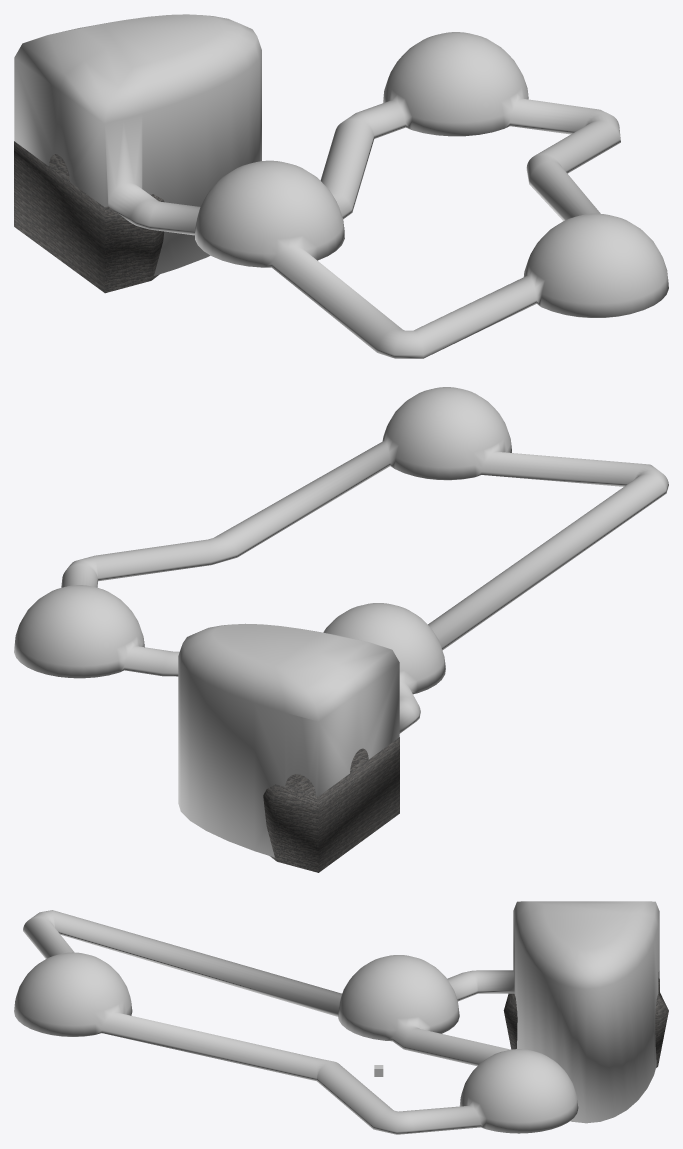
Rendered from LiverLevel.fbx.
The picture shows the model from 3 angles, top to bottom: view 1: azimuth 30°, elevation 25°; view 2: azimuth 150°, elevation 25°; view 3: azimuth 270°, elevation 25°; orthographic projection. The views are drawn at different scales.
Parts seen in each view (by area): view 1: LiverLevel, LiverPlatform; view 2: LiverLevel, LiverPlatform; view 3: LiverLevel, LiverPlatform.
Boxes of the visible parts, x1,y1,x2,y2 form: LiverLevel: (14,14,668,358); LiverPlatform: (14,141,164,293); LiverLevel: (14,387,668,857); LiverPlatform: (263,737,399,872); LiverLevel: (14,901,659,1134); LiverPlatform: (503,978,668,1067).
Bounding box in the file's own units: 9460 × 4326 × 14540.
